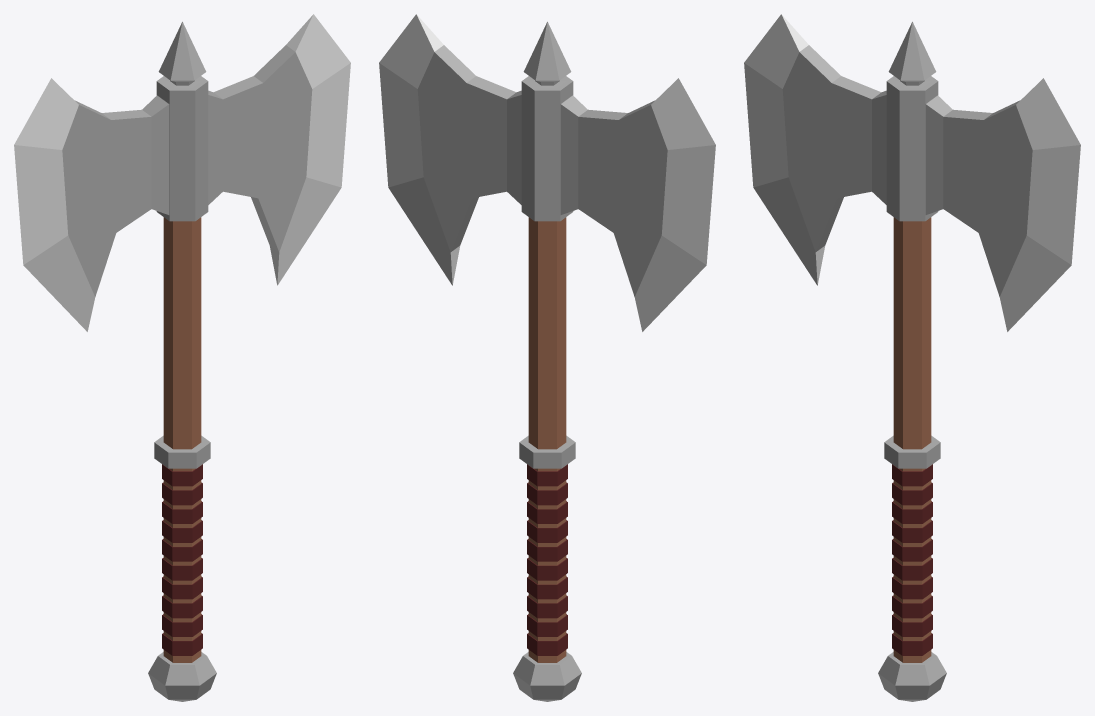
The model's file is Greataxe.fbx.
3 renders of one model, left to right at view 1: azimuth 30°, elevation 25°; view 2: azimuth 150°, elevation 25°; view 3: azimuth 330°, elevation 25°, orthographic.
Parts seen in each view (by area): view 1: Great Axe; view 2: Great Axe; view 3: Great Axe.
Part boxes in pixels (x1,y1,x2,y2): Great Axe: [14, 14, 350, 701]; Great Axe: [379, 14, 715, 701]; Great Axe: [744, 14, 1080, 701].
Size of the model in its own units: 150 by 289 by 26.55.
